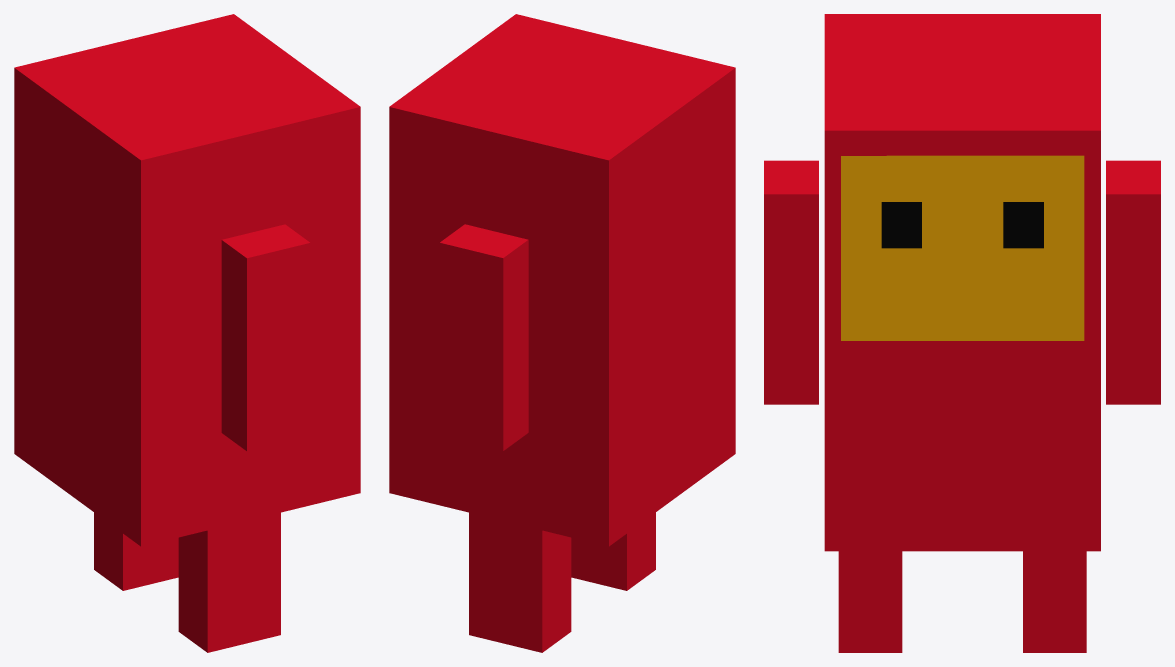
The model's file is bemo.glb.
3 renders of one model, left to right at view 1: azimuth 30°, elevation 25°; view 2: azimuth 150°, elevation 25°; view 3: azimuth 270°, elevation 25°, orthographic. The views are drawn at different scales.
Visible parts, largest first — view 1: Cube, Cube.002, Cube.003, Cube.004; view 2: Cube, Cube.001, Cube.004, Cube.003; view 3: Cube, Cube.001, Cube.002, Cube.003, Cube.004.
Boxes of the visible parts, left/top/right/bottom form: Cube: left=14, top=14, right=360, bottom=546; Cube.002: left=221, top=224, right=310, bottom=451; Cube.003: left=178, top=512, right=280, bottom=652; Cube.004: left=94, top=512, right=178, bottom=590; Cube: left=389, top=14, right=735, bottom=546; Cube.001: left=439, top=224, right=528, bottom=450; Cube.004: left=469, top=512, right=571, bottom=652; Cube.003: left=571, top=512, right=655, bottom=590; Cube: left=824, top=14, right=1100, bottom=551; Cube.001: left=1106, top=160, right=1160, bottom=404; Cube.002: left=764, top=160, right=818, bottom=404; Cube.003: left=838, top=551, right=902, bottom=652; Cube.004: left=1023, top=551, right=1086, bottom=652.
Bounding box in the file's own units: 1.46 × 3.28 × 2.1.
